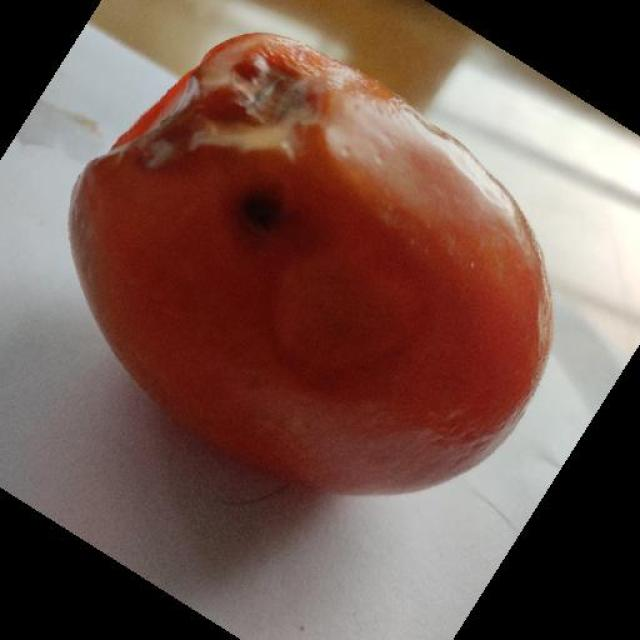Stale_tomato: (129, 23, 420, 431)
